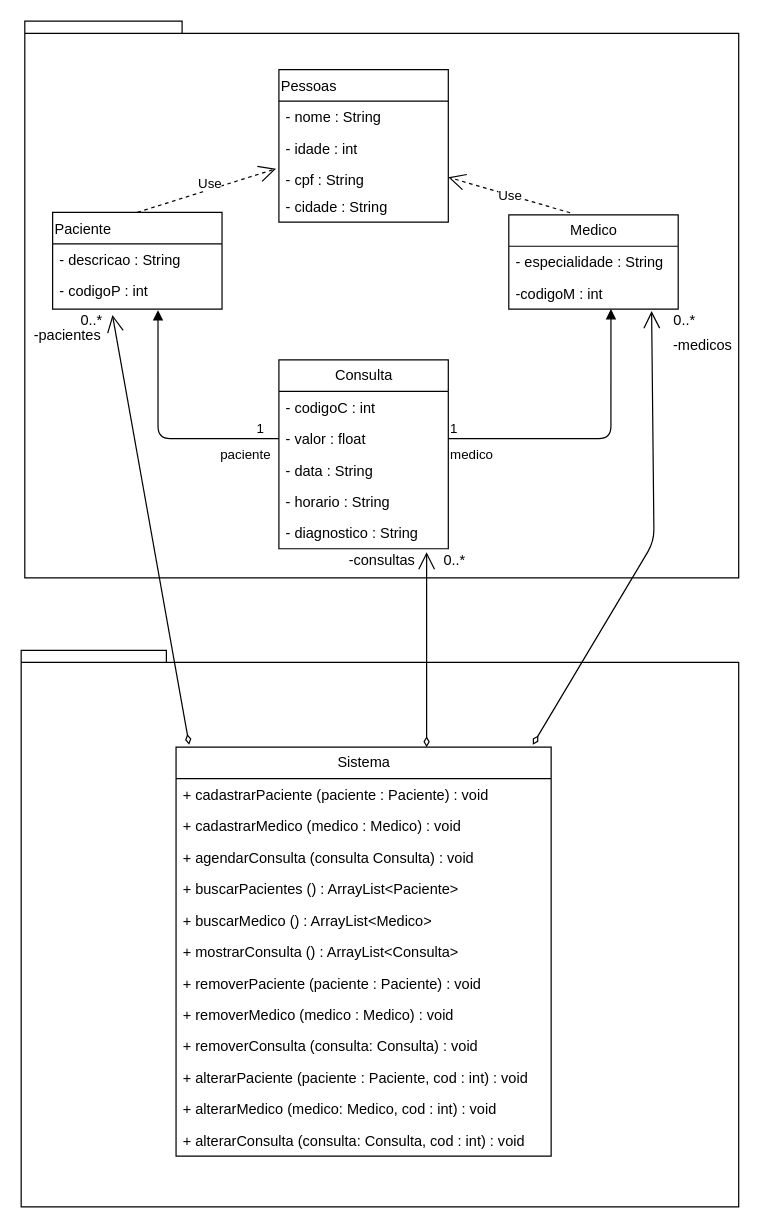
The diagram is 760 pixels wide and 1228 high, and some of its shapes have lost their labels. Each missing label, with the box of its shape:
Dados: (24, 20, 739, 578)
package: (20, 649, 739, 1207)
